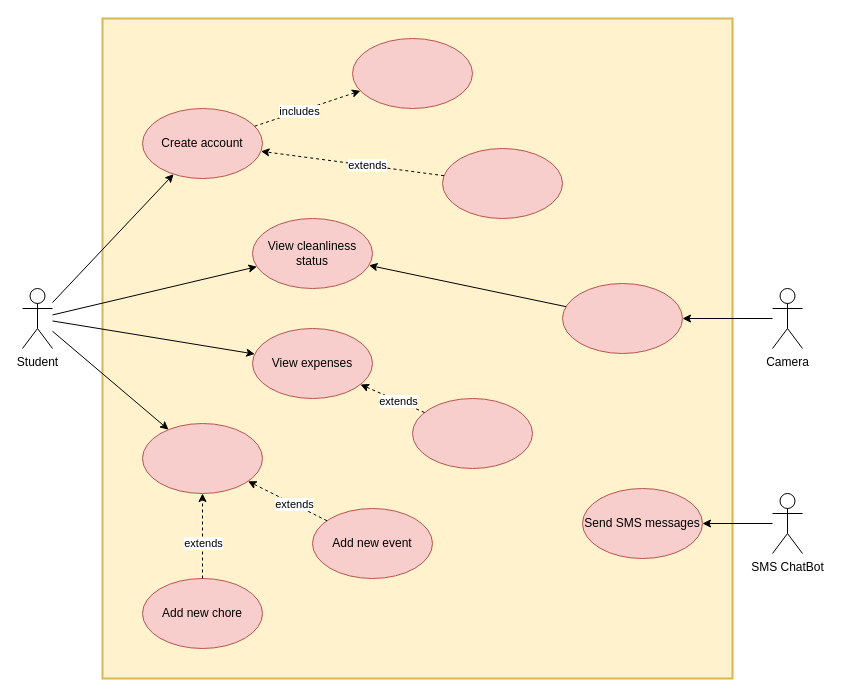
Image size: 841x696. Some labels were removed from this diagram. Each missing label, with the box of its shape:
Add new expense: (412, 398, 532, 468)
Create home: (442, 148, 562, 218)
Join home: (352, 38, 472, 108)
Monitor Living Space: (562, 282, 682, 354)
View schedule: (142, 422, 262, 494)
